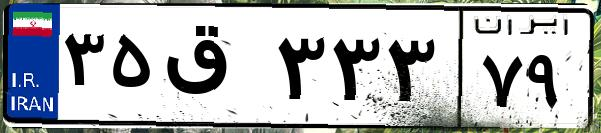3: (270, 28, 330, 110), (385, 28, 445, 110), (330, 28, 385, 110), (57, 26, 110, 100)
5: (110, 28, 158, 98)
7: (475, 38, 525, 113)
9: (525, 38, 570, 115)
ق: (158, 20, 270, 120)
